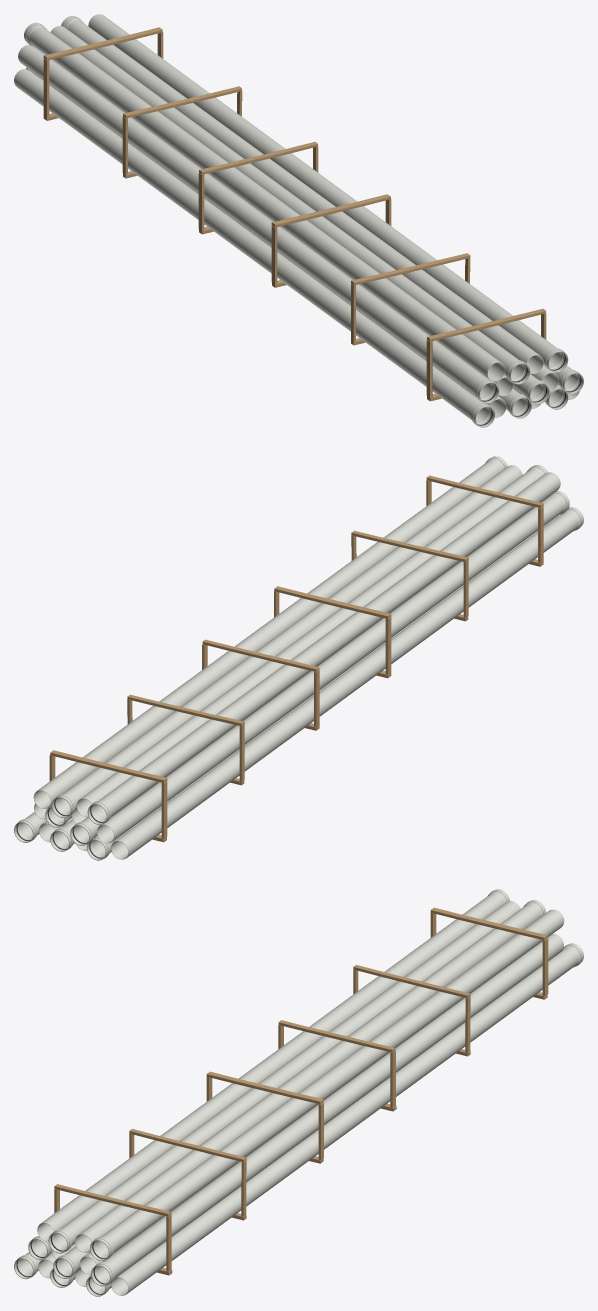
Rendered from pipe_plastic_gray_b06.glb.
3 renders of one model, top to bottom at view 1: azimuth 30°, elevation 25°; view 2: azimuth 150°, elevation 25°; view 3: azimuth 330°, elevation 25°, orthographic.
Size of the model in its own units: 0.9853 by 0.509 by 7.02.
